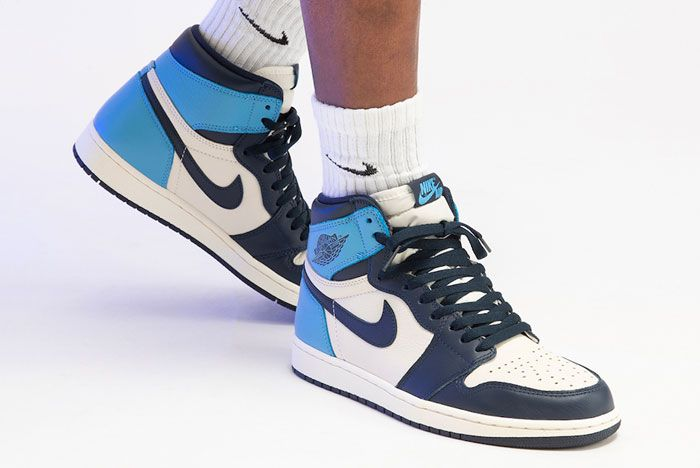Jordan 1: (290, 166, 629, 456), (65, 22, 323, 322)
